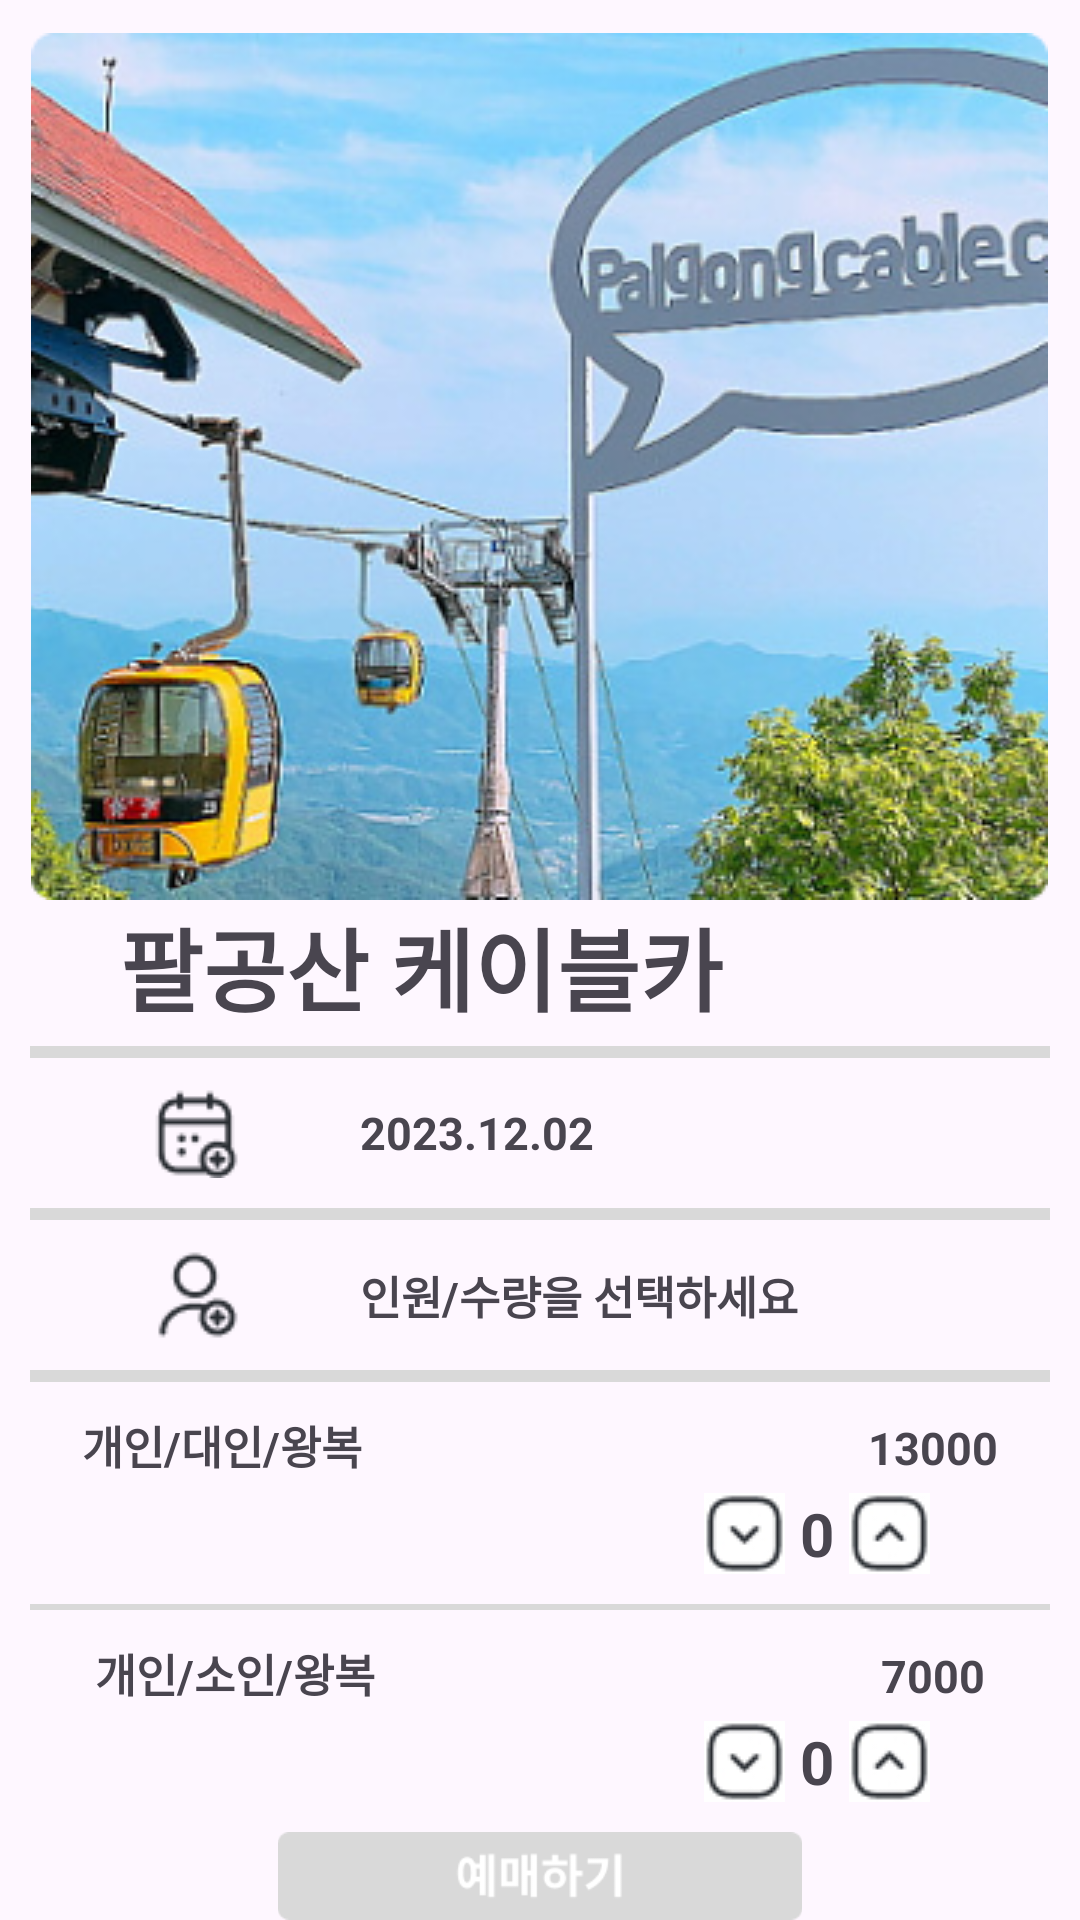

Icons on this 1080 x 1920 Android screen, each with its box as (x1, y1, x2, y2):
arrowsquaredown: (706, 1495, 783, 1572), (706, 1723, 783, 1800)
arrowsquareup: (851, 1495, 928, 1572), (851, 1723, 928, 1800)
calendaradd: (157, 1091, 238, 1178)
useradd: (158, 1252, 238, 1338)
